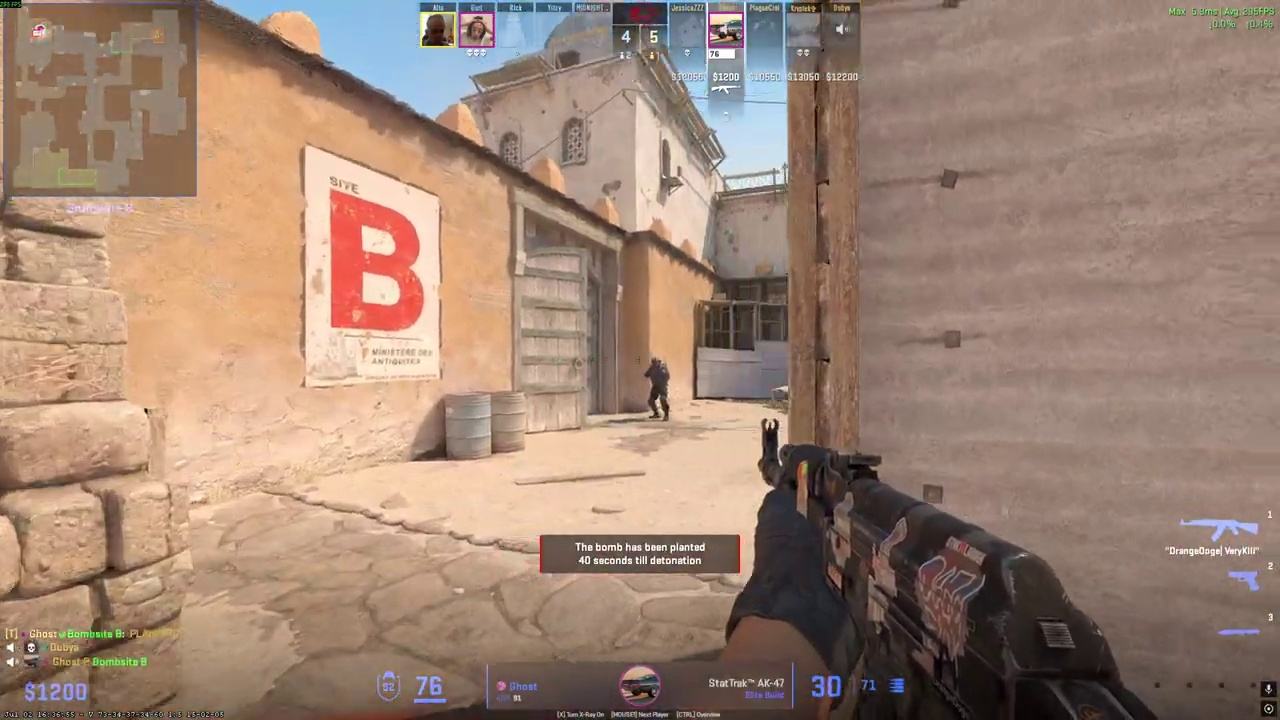CT: (645, 357, 670, 421)
